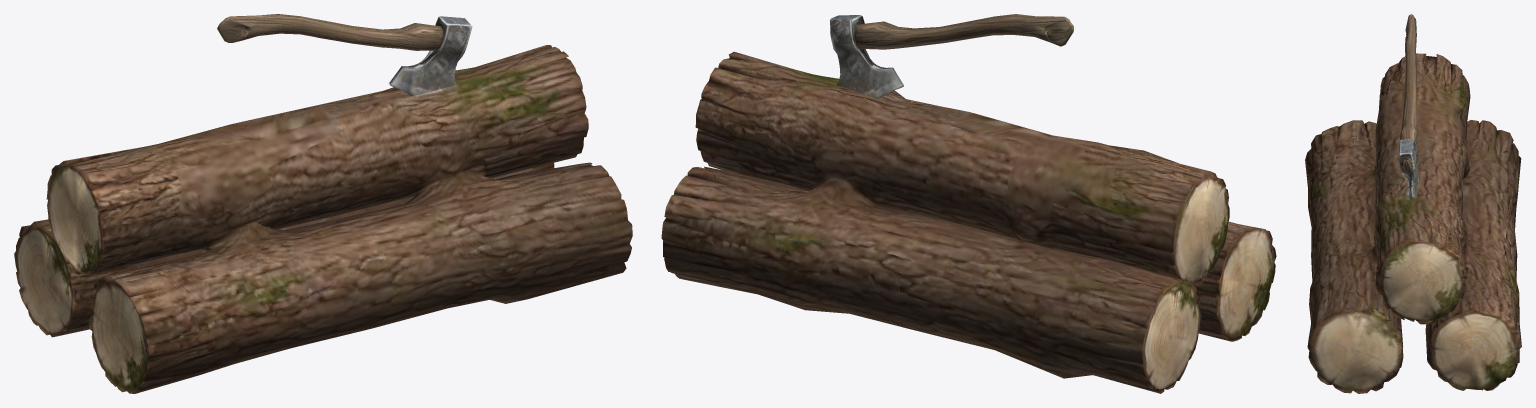
The model's file is timberNode.glb.
The picture shows the model from 3 angles, left to right: view 1: azimuth 30°, elevation 25°; view 2: azimuth 150°, elevation 25°; view 3: azimuth 270°, elevation 25°; orthographic projection. The views are drawn at different scales.
Bounding box in the file's own units: 0.9604 × 0.5943 × 0.4682.
Materials: 1 (1 with a texture image).
